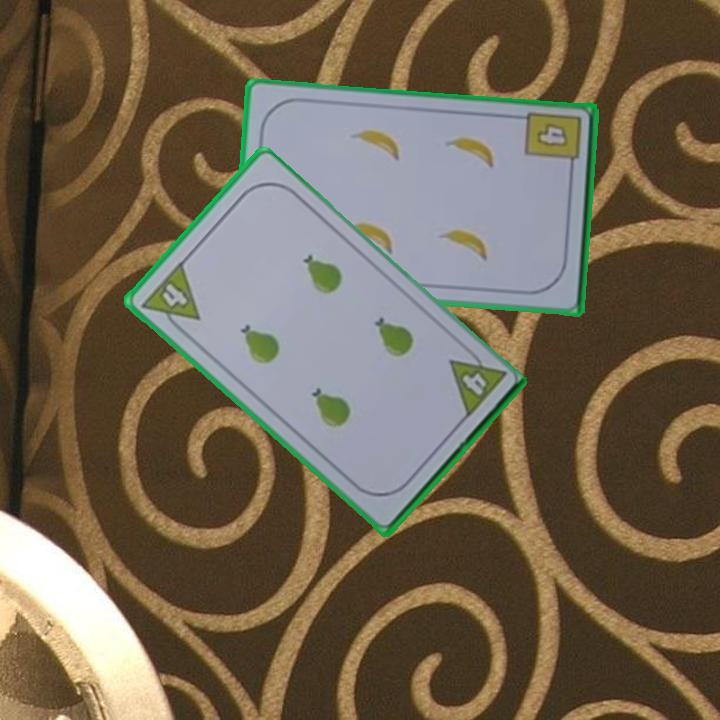4b: (532, 120, 571, 151)
4p: (137, 258, 203, 339), (445, 342, 508, 422)
